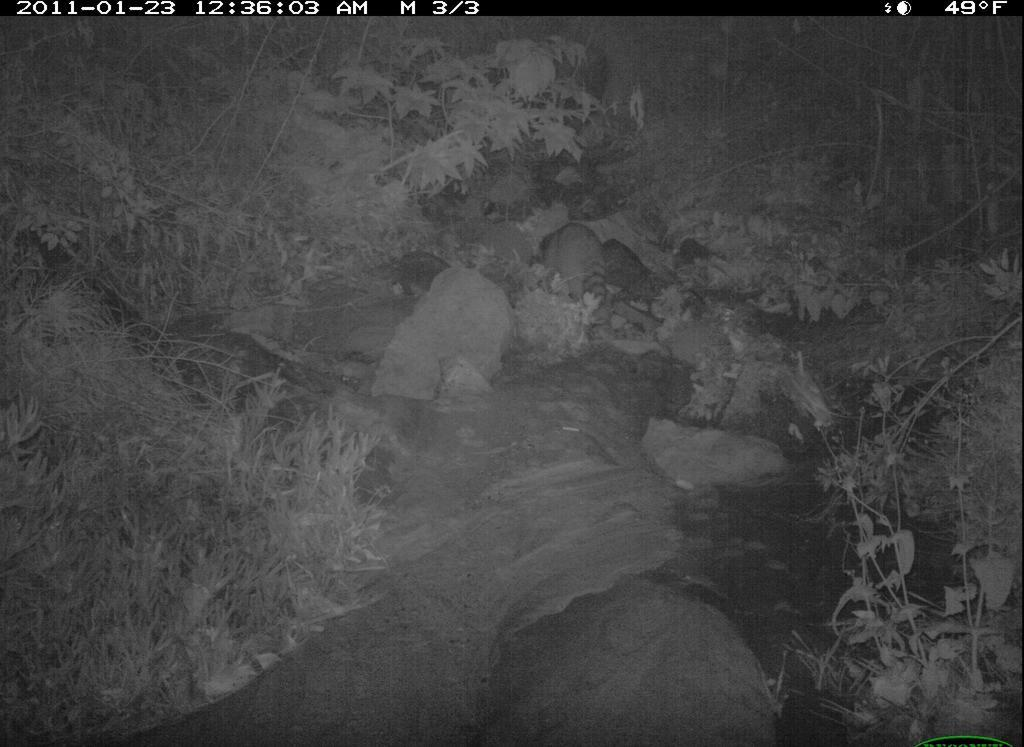raccoon: (530, 217, 609, 303)
